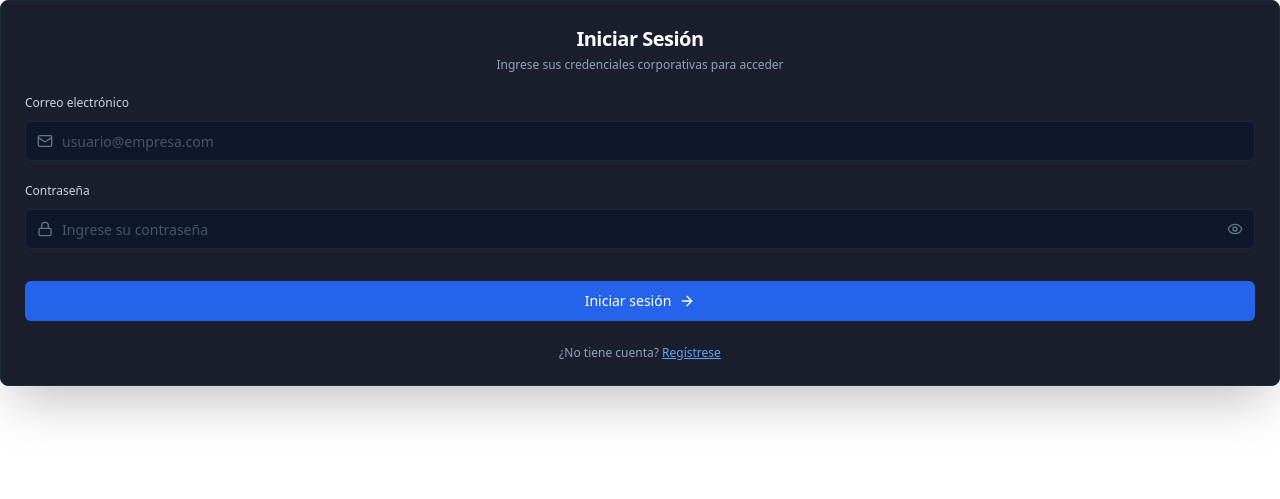
Test case: LoginPage › shows a generic message for invalid credentials
The width and height of the screenshot is (1280, 499).
Step 1. Type "admin@erp.com" into the field labelled "Correo electrónico" → (640, 141), box [25, 121, 1255, 161]
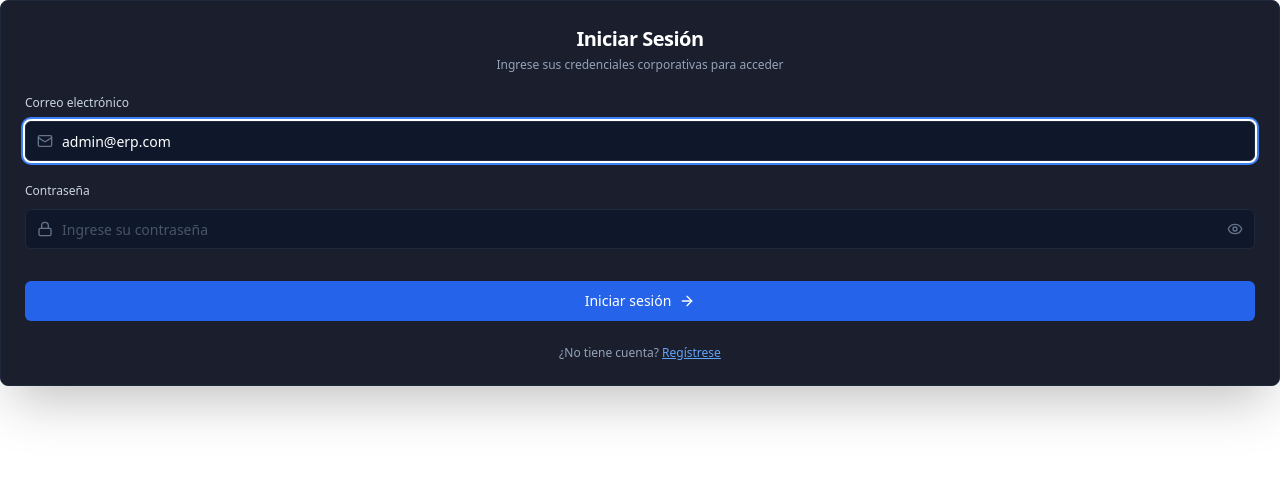
Step 2. Type "wrong-password" into the password field labelled "Contraseña" → (640, 229), box [25, 209, 1255, 249]
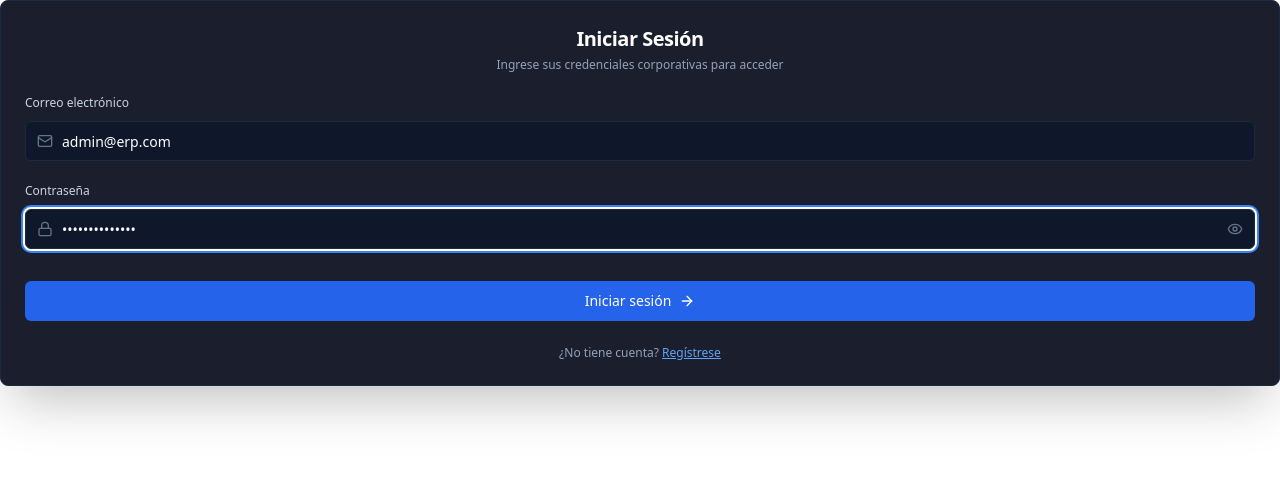
Step 3. Click the button "Iniciar sesión" → (640, 301), box [25, 281, 1255, 321]
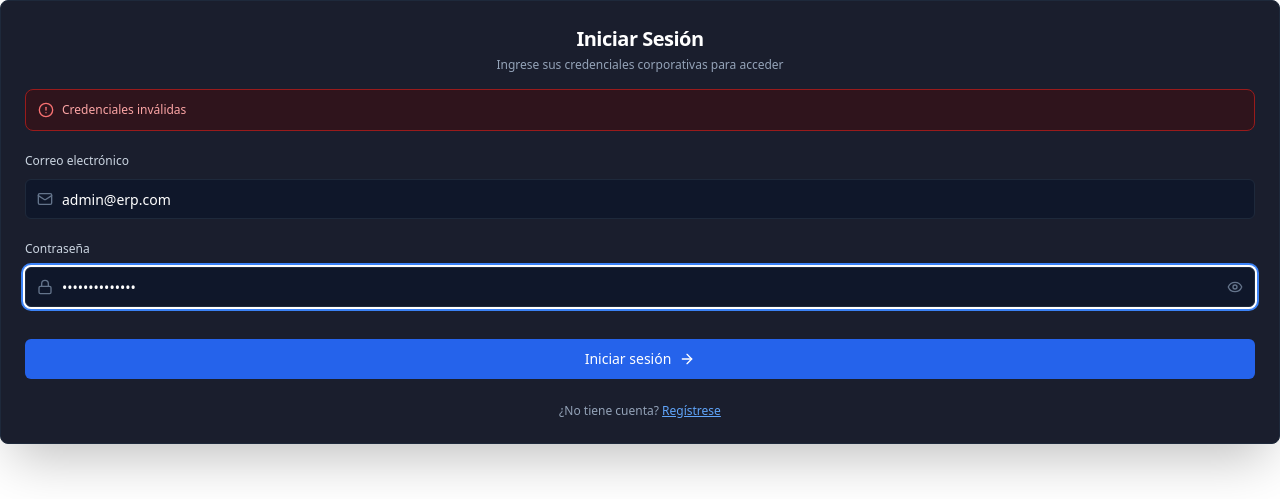
Result: the text "Credenciales inválidas" is shown at [62, 102, 186, 118]
